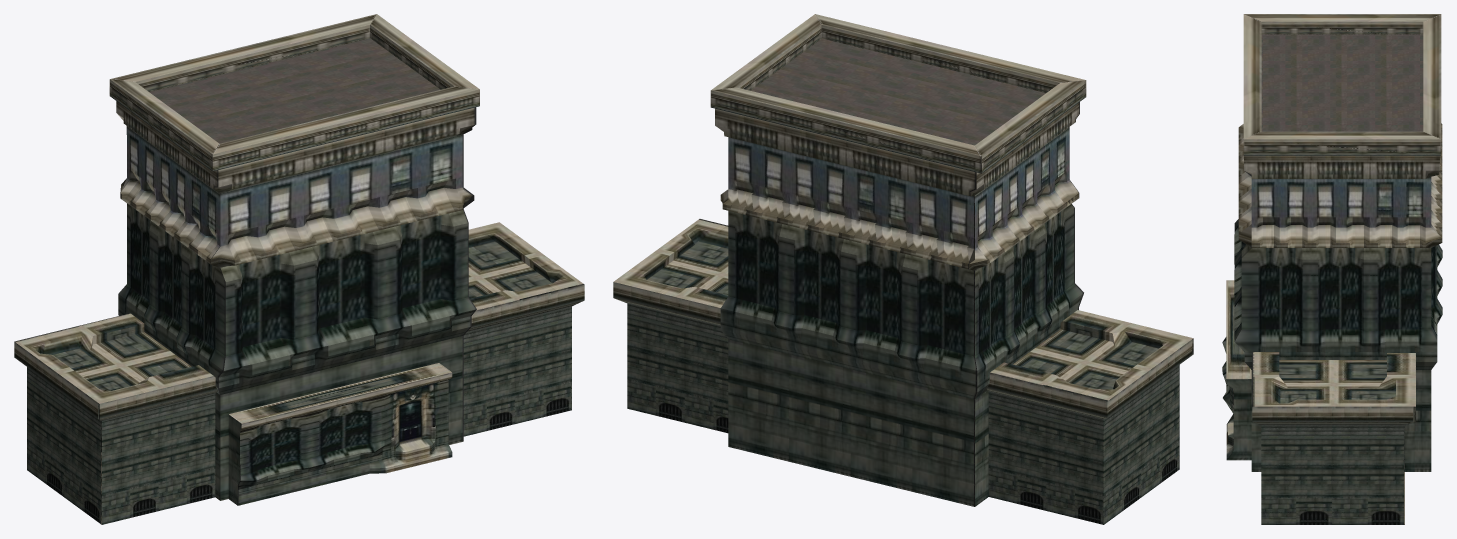
Rendered from building03.fbx.
3 renders of one model, left to right at view 1: azimuth 30°, elevation 25°; view 2: azimuth 150°, elevation 25°; view 3: azimuth 270°, elevation 25°, orthographic. The views are drawn at different scales.
Parts seen in each view (by area): view 1: RightSide; view 2: RightSide; view 3: RightSide.
Boxes of the visible parts, x1=… form: RightSide: x1=14, y1=14, x2=584, y2=524; RightSide: x1=613, y1=14, x2=1193, y2=524; RightSide: x1=1222, y1=14, x2=1442, y2=524.
Size of the model in its own units: 6000 by 4156 by 2453.
Materials: 4 (4 with a texture image).
